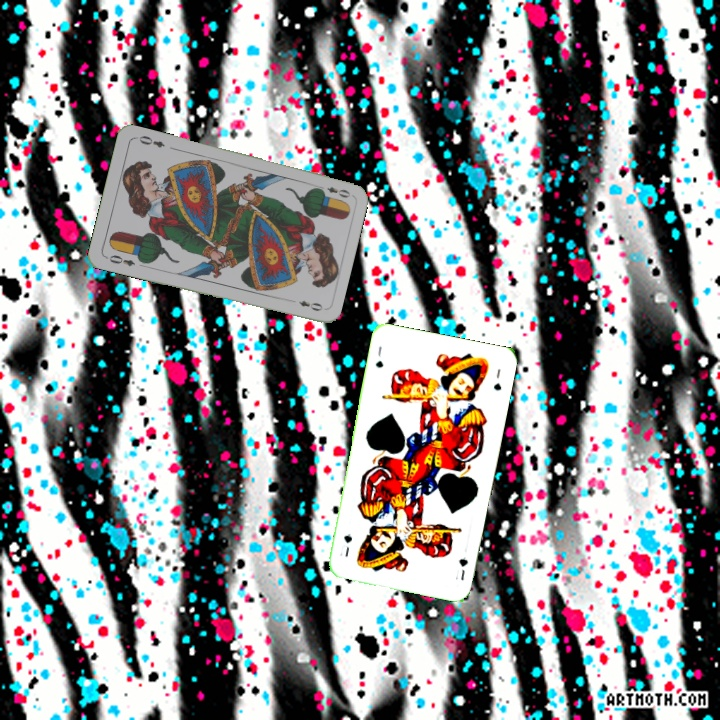EO: (313, 181, 353, 200), (102, 251, 137, 269)
GU: (452, 553, 471, 583), (371, 342, 386, 370)
